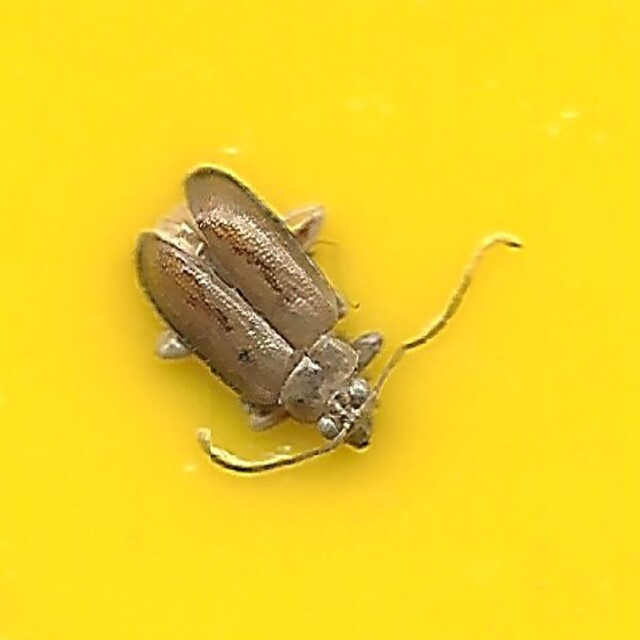Coleoptera: (134, 164, 506, 476)
